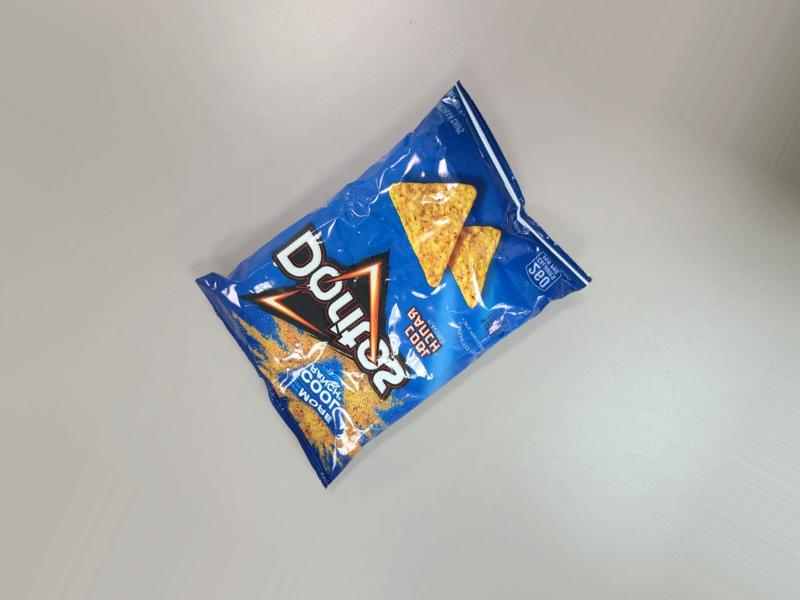doritos: (194, 75, 574, 486)
